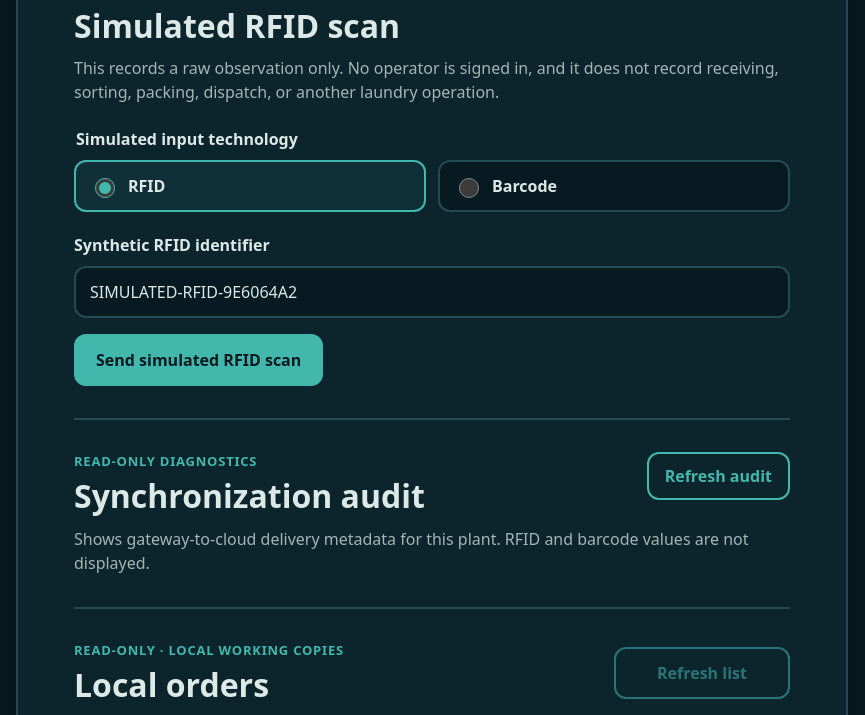
Test: station application foundation › retries an uncertain result with the exact same immutable request
(page scrolled)
Click the button "Send simulated RFID scan" at coordinates (199, 360), box x1=74 y1=334 x2=323 y2=386
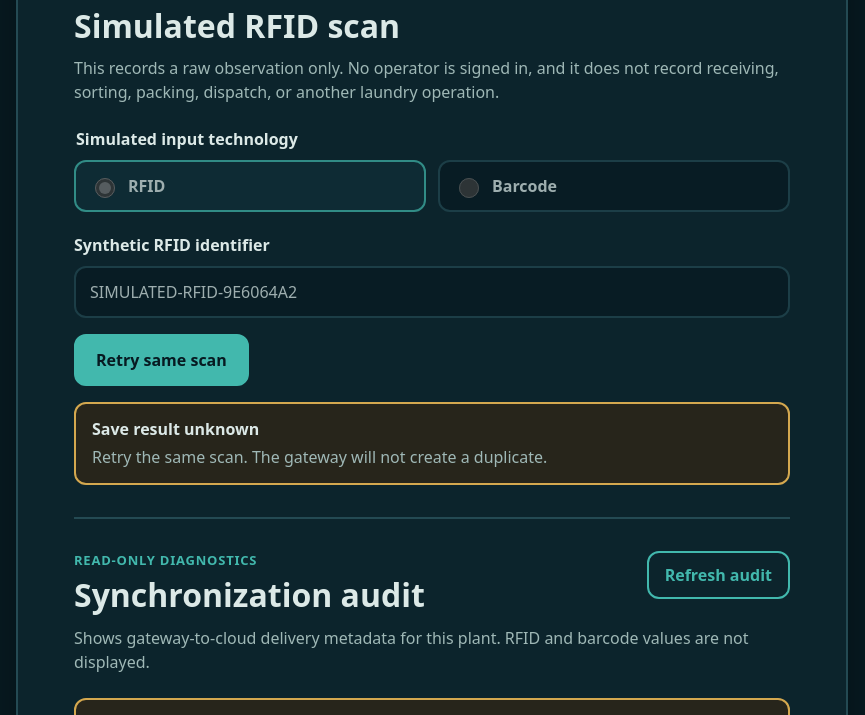
Expected: the radio button labelled "RFID" is disabled, x1=95 y1=178 x2=115 y2=198
Expected: the text "Save result unknown" is shown, x1=92 y1=418 x2=259 y2=440
Expected: the field labelled "Synthetic RFID identifier" is disabled, x1=74 y1=266 x2=790 y2=318
Click the button "Retry same scan" at coordinates (161, 360), box x1=74 y1=334 x2=249 y2=386
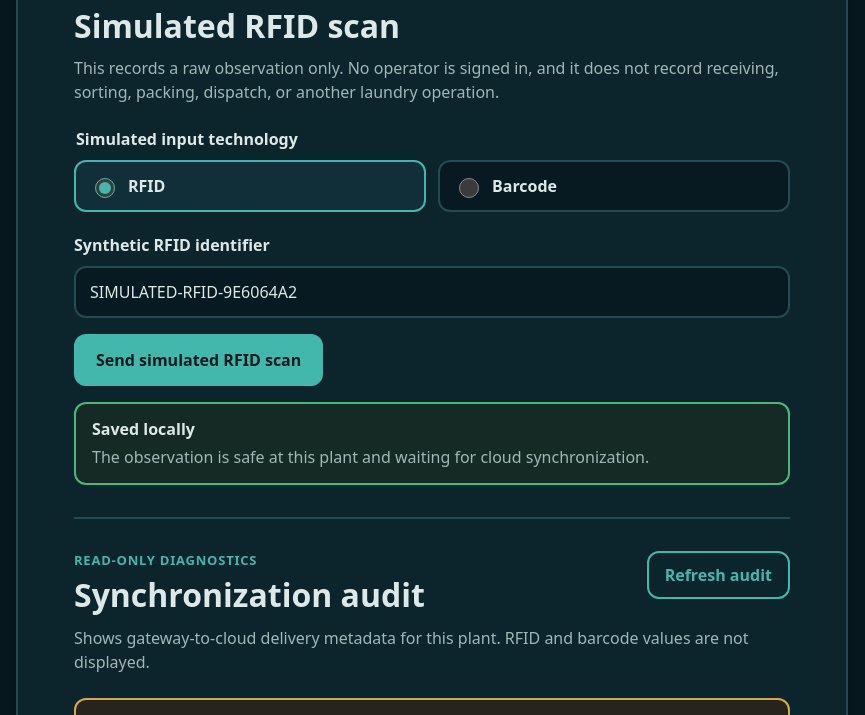
Expected: the text "Saved locally" is shown, x1=92 y1=418 x2=195 y2=440
